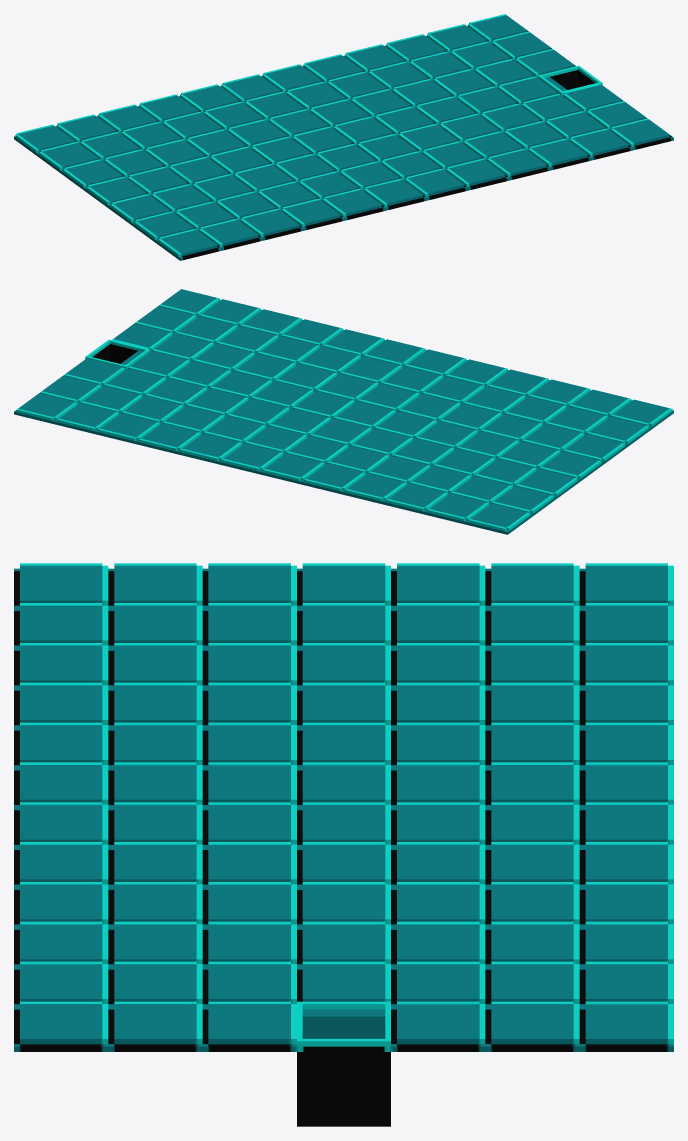
3 renders of one model, top to bottom at view 1: azimuth 30°, elevation 25°; view 2: azimuth 150°, elevation 25°; view 3: azimuth 270°, elevation 25°, orthographic. The views are drawn at different scales.
Visible parts, largest first — view 1: FloorStairsRightMiddle; view 2: FloorStairsRightMiddle; view 3: FloorStairsRightMiddle.
Part boxes in pixels (<box>): FloorStairsRightMiddle: <box>14,14,673,260</box>; FloorStairsRightMiddle: <box>14,289,673,534</box>; FloorStairsRightMiddle: <box>14,563,673,1126</box>.
Size of the model in its own units: 19.2 by 1.6 by 11.2.
Materials: 1 (1 with a texture image).
